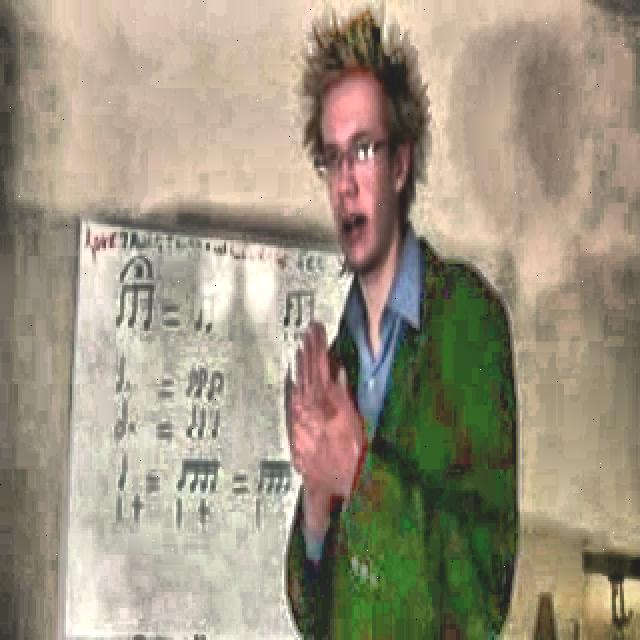F: (274, 7, 519, 640)
